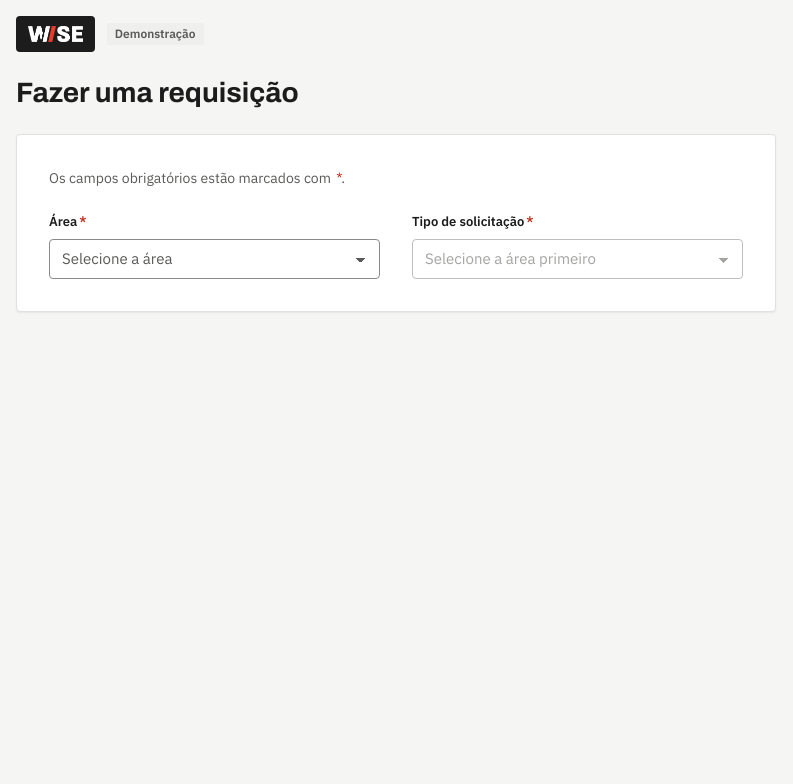
Test: Requisição › área com um único tipo (Engenharia) escolhe "Solicitação de Serviço" sozinha
Click the dropdown with id "f-area". click: (117, 258)
box: [49, 239, 380, 279]
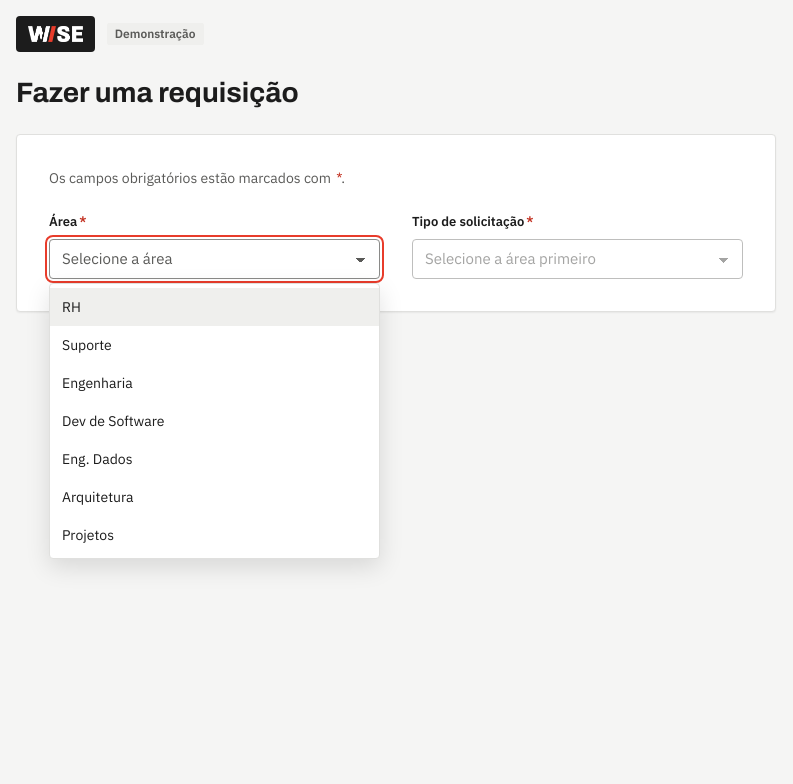
Click the option "Engenharia". click: (97, 383)
box: [62, 374, 133, 392]
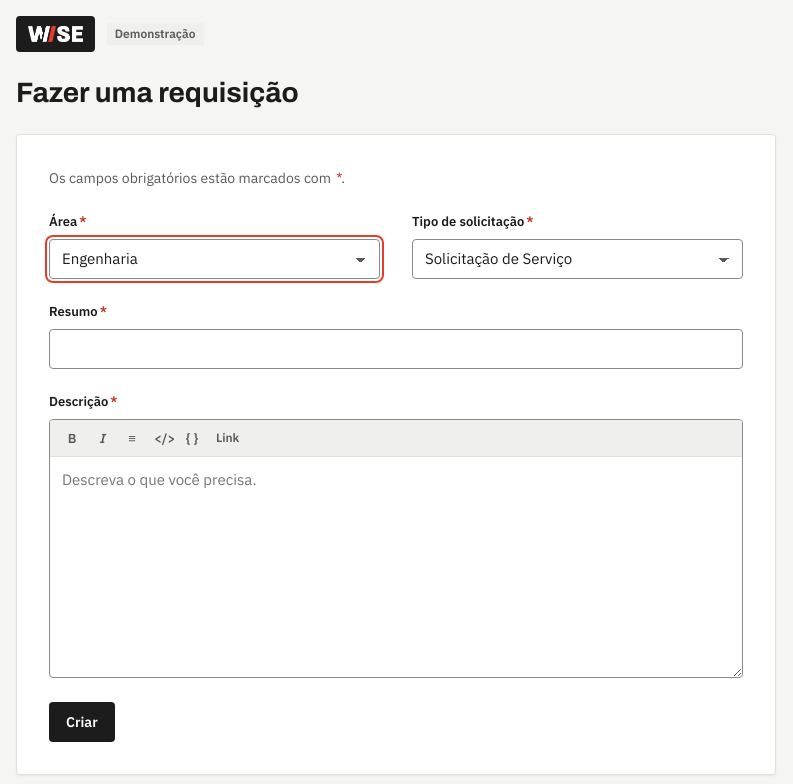
Check: the text "Solicitação de Serviço" is shown, box [425, 248, 572, 270]
Check: the field labelled "Resumo*" is shown, box [49, 329, 743, 369]
